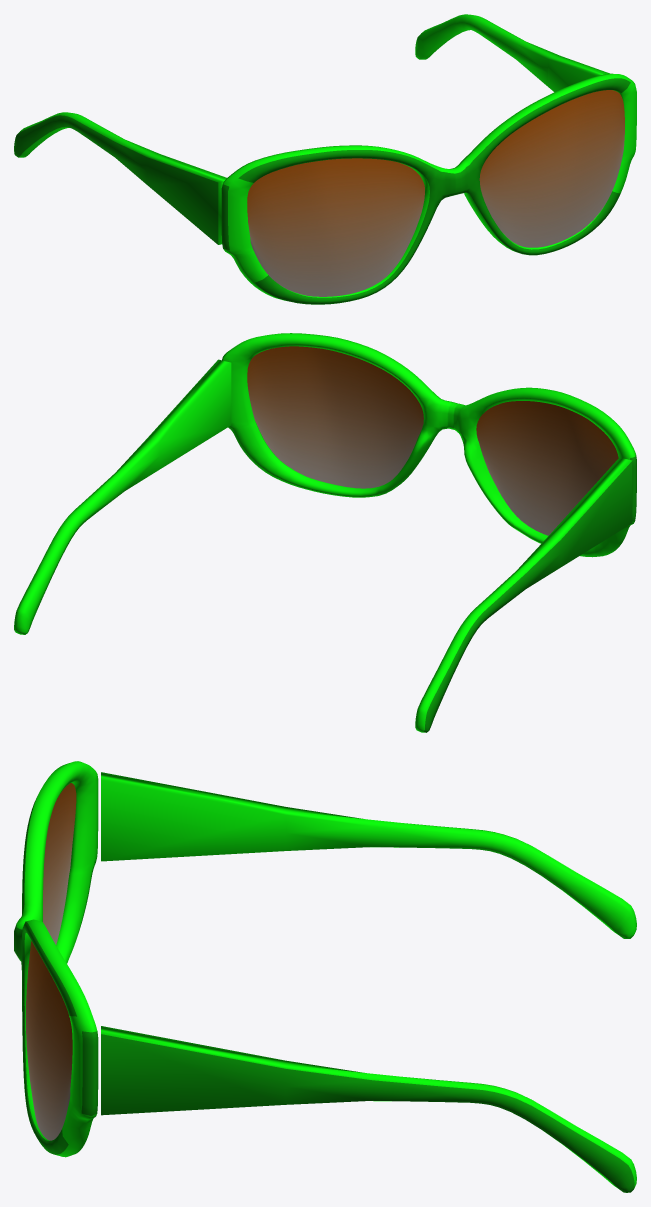
File: greenglasses.obj
The picture shows the model from 3 angles, top to bottom: view 1: azimuth 30°, elevation 25°; view 2: azimuth 150°, elevation 25°; view 3: azimuth 270°, elevation 25°; orthographic projection. The views are drawn at different scales.
Bounding box in the file's own units: 38.98 × 13.99 × 39.16.
4 materials, 1 textured.
